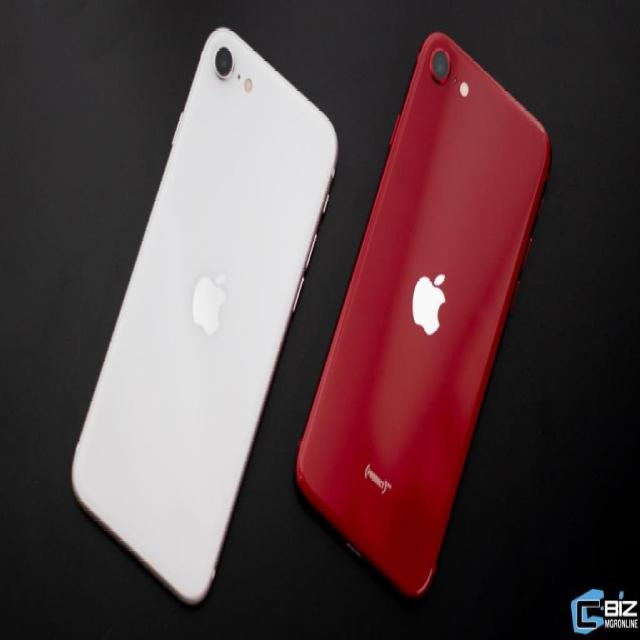mobile phone: (70, 24, 338, 606), (294, 29, 551, 600)
